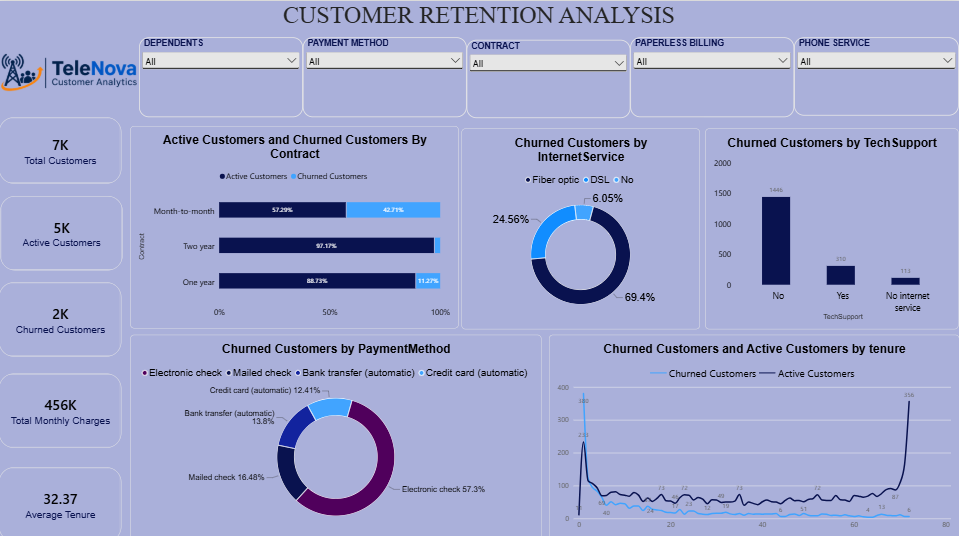

What the dashboard file says about the page in this screenshot:
{"tool":"powerbi","page":{"name":"Page 3","canvas":[1920,1080],"ordinal":2},"visuals":[{"type":"textbox","box":[0,0,1919.6,57.1],"z":0},{"type":"cardVisual","fields":{"Data":["Telco-Customer-Churn.Total Customers"]},"box":[0,233.7,244.8,132.5],"z":1000},{"type":"cardVisual","fields":{"Data":["Telco-Customer-Churn.Churned Customers"]},"box":[0,561.4,244.8,149.1],"z":2000},{"type":"cardVisual","fields":{"Data":["Telco-Customer-Churn.Active Customers"]},"box":[1.8,390.2,244.8,149.1],"z":3000},{"type":"cardVisual","fields":{"Data":["Telco-Customer-Churn.Total Monthly Charges"]},"box":[0,745.4,244.8,149.1],"z":4000},{"type":"cardVisual","fields":{"Data":["Telco-Customer-Churn.Average Tenure"]},"box":[0,931.3,244.8,149.1],"z":5000},{"type":"slicer","title":"DEPENDENTS","fields":{"Values":["Telco-Customer-Churn.Dependents"]},"box":[279.8,73.6,327.6,160.1],"z":6000},{"type":"slicer","fields":{"Values":["Telco-Customer-Churn.PaymentMethod"]},"box":[607.4,73.6,327.6,160.1],"z":7000},{"type":"slicer","fields":{"Values":["Telco-Customer-Churn.PaperlessBilling"]},"box":[1262.6,73.6,327.6,160.1],"z":8000},{"type":"slicer","fields":{"Values":["Telco-Customer-Churn.PhoneService"]},"box":[1590.2,73.6,329.4,156.4],"z":9000},{"type":"slicer","fields":{"Values":["Telco-Customer-Churn.Contract"]},"box":[935,77.3,327.6,156.4],"z":10000},{"type":"hundredPercentStackedBarChart","title":"Active Customers and Churned Customers By Contract","fields":{"Category":["Telco-Customer-Churn.Contract"],"Y":["Telco-Customer-Churn.Active Customers","Telco-Customer-Churn.Churned Customers"]},"box":[261.4,250.3,657.1,404.9],"z":11000},{"type":"pieChart","fields":{"Category":["Telco-Customer-Churn.PaymentMethod"],"Y":["Telco-Customer-Churn.Churned Customers"]},"box":[261.4,668.1,822.7,412.3],"z":12000},{"type":"donutChart","fields":{"Category":["Telco-Customer-Churn.InternetService"],"Y":["Telco-Customer-Churn.Churned Customers"]},"box":[923.9,254,476.7,401.2],"z":13000},{"type":"lineChart","fields":{"Category":["Telco-Customer-Churn.tenure"],"Y":["Telco-Customer-Churn.Churned Customers","Telco-Customer-Churn.Active Customers"]},"box":[1098.8,668.1,820.9,412.3],"z":14000},{"type":"columnChart","fields":{"Category":["Telco-Customer-Churn.TechSupport"],"Y":["Telco-Customer-Churn.Churned Customers"]},"box":[1413.5,254,506.1,401.2],"z":15000},{"type":"image","box":[0,57.1,279.8,173],"z":16000}]}

Visuals, with their boxes in screenshot pixels (x1, y1, x2, y2), scaled from the page's 1920x1080 canvas onto the 959x536 screenshot:
textbox: locate(0, 0, 958, 28)
cardVisual - Telco-Customer-Churn.Total Customers: locate(0, 116, 122, 182)
cardVisual - Telco-Customer-Churn.Churned Customers: locate(0, 279, 122, 353)
cardVisual - Telco-Customer-Churn.Active Customers: locate(1, 194, 123, 268)
cardVisual - Telco-Customer-Churn.Total Monthly Charges: locate(0, 370, 122, 444)
cardVisual - Telco-Customer-Churn.Average Tenure: locate(0, 462, 122, 535)
"DEPENDENTS" slicer: locate(140, 37, 303, 116)
slicer - Telco-Customer-Churn.PaymentMethod: locate(303, 37, 467, 116)
slicer - Telco-Customer-Churn.PaperlessBilling: locate(631, 37, 794, 116)
slicer - Telco-Customer-Churn.PhoneService: locate(794, 37, 958, 114)
slicer - Telco-Customer-Churn.Contract: locate(467, 38, 631, 116)
"Active Customers and Churned Customers By Contract" hundredPercentStackedBarChart: locate(131, 124, 459, 325)
pieChart - Telco-Customer-Churn.PaymentMethod x Telco-Customer-Churn.Churned Customers: locate(131, 332, 541, 535)
donutChart - Telco-Customer-Churn.InternetService x Telco-Customer-Churn.Churned Customers: locate(461, 126, 700, 325)
lineChart - Telco-Customer-Churn.tenure x Telco-Customer-Churn.Churned Customers: locate(549, 332, 958, 535)
columnChart - Telco-Customer-Churn.TechSupport x Telco-Customer-Churn.Churned Customers: locate(706, 126, 958, 325)
image: locate(0, 28, 140, 114)
